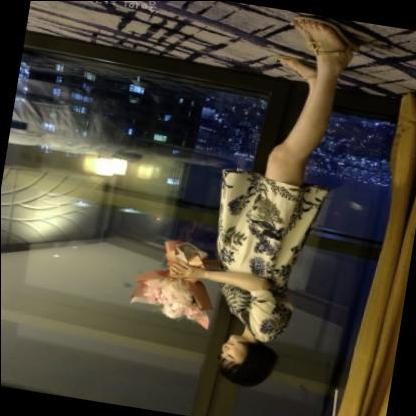no_safety-shoe: (265, 9, 383, 74), (257, 45, 334, 96)
